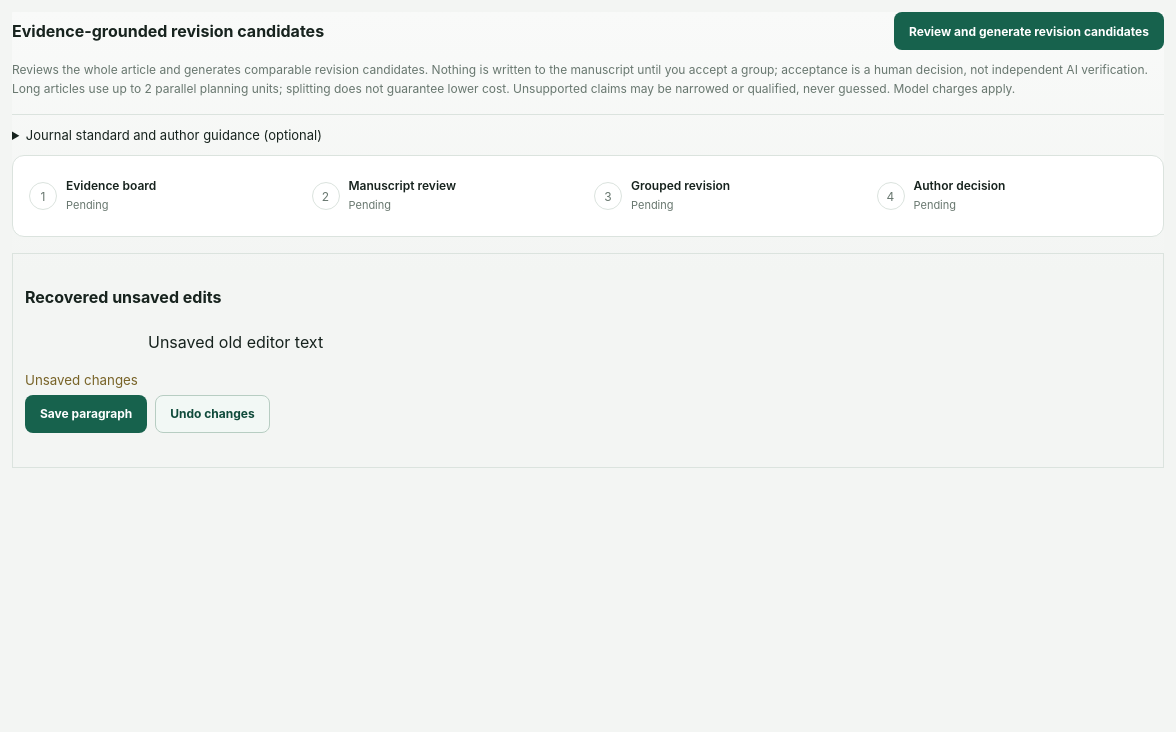
Test: protects retained old review-editor scratch after the UI replacement
The width and height of the screenshot is (1176, 732).
Click the button "Review and generate revision candidates".
click(1029, 31)  # box 894,12 -> 1164,50
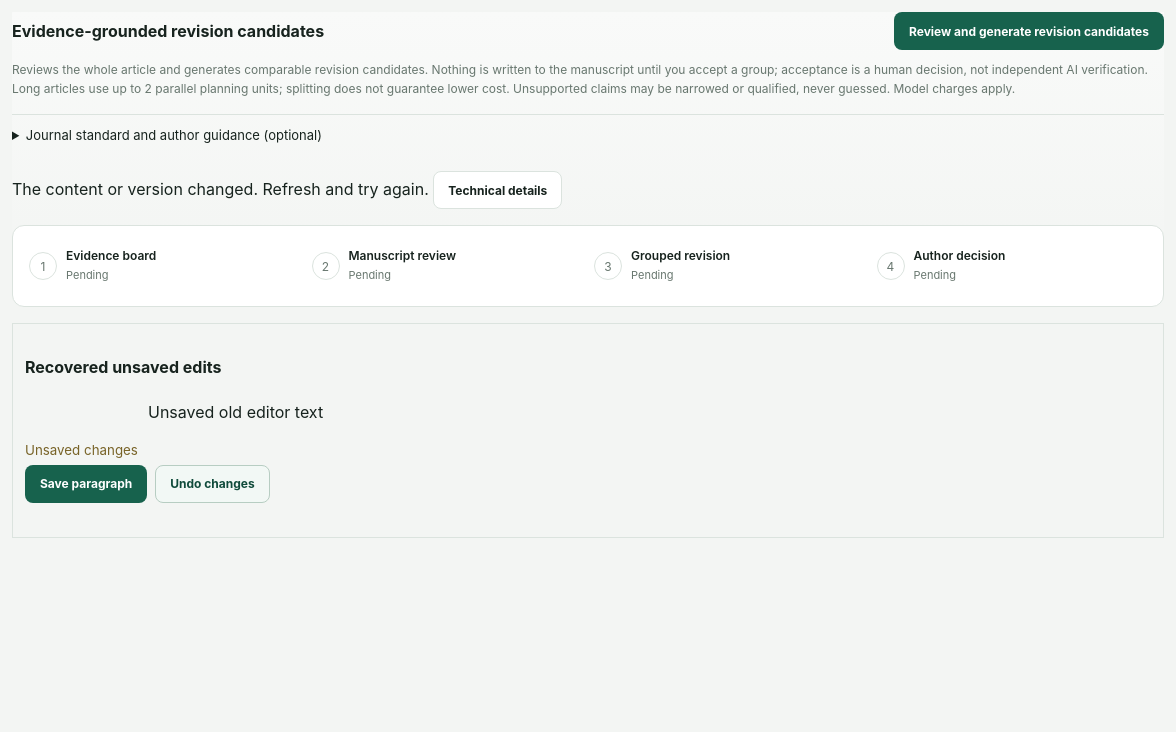
Now the message "The content or version changed. Refresh and try again. Technical details" is shown, box 12,171 -> 562,209
